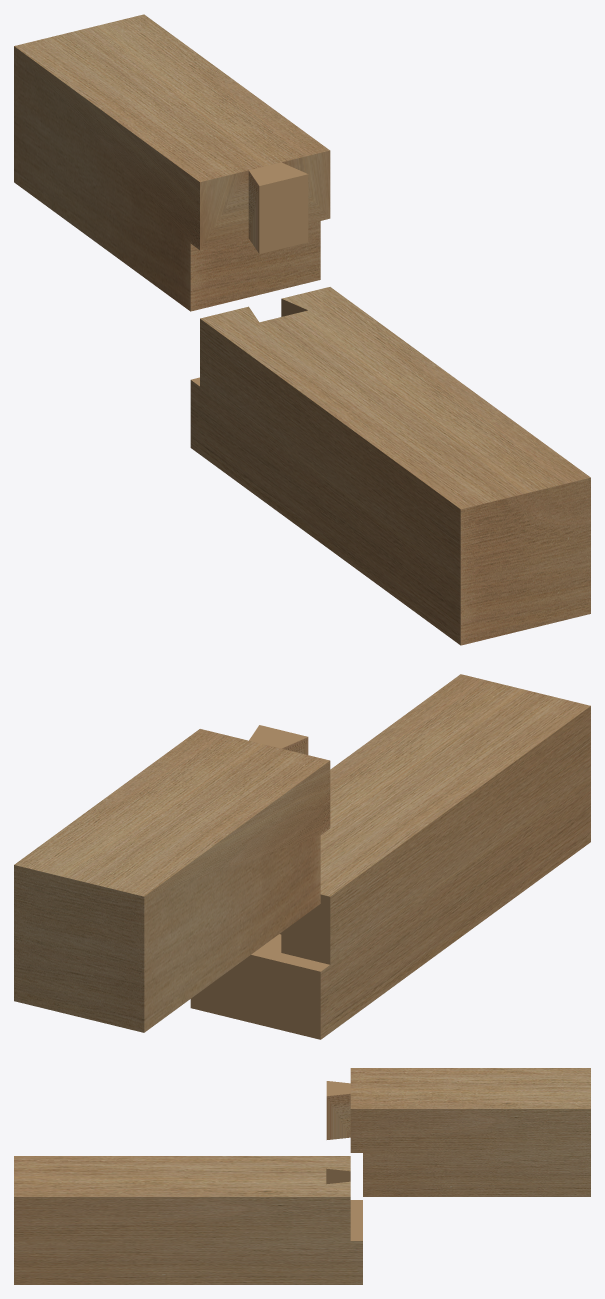
File: Aritugi(true).fbx
3 views of the same model, one above another, from view 1: azimuth 30°, elevation 25°; view 2: azimuth 150°, elevation 25°; view 3: azimuth 270°, elevation 25° (orthographic). The views are drawn at different scales.
Parts seen in each view (by area): view 1: Shitaki, Uwaki; view 2: Shitaki, Uwaki; view 3: Shitaki, Uwaki.
Part boxes in pixels (left/top/right/bottom): Shitaki: left=190, top=287, right=590, bottom=645; Uwaki: left=14, top=14, right=330, bottom=311; Shitaki: left=190, top=674, right=590, bottom=1039; Uwaki: left=14, top=725, right=330, bottom=1032; Shitaki: left=14, top=1156, right=362, bottom=1284; Uwaki: left=326, top=1068, right=590, bottom=1196.
Size of the model in its own units: 0.046 by 0.092 by 0.2735.
Materials: 1 (1 with a texture image).
